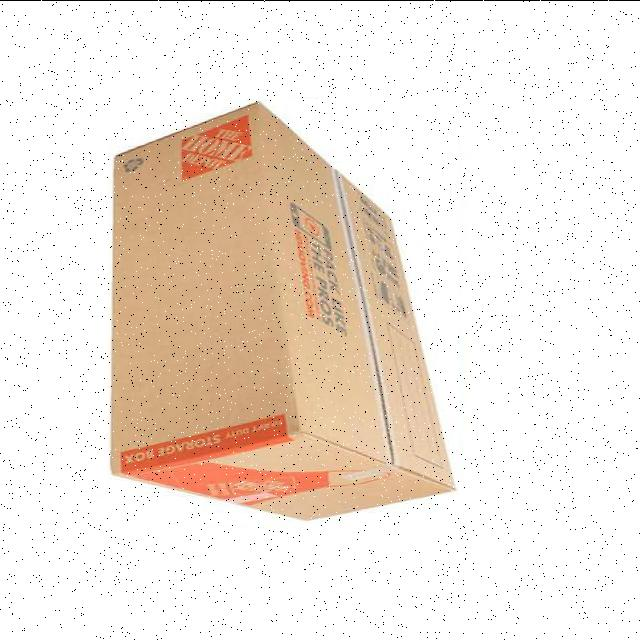normal: (108, 98, 458, 523)
